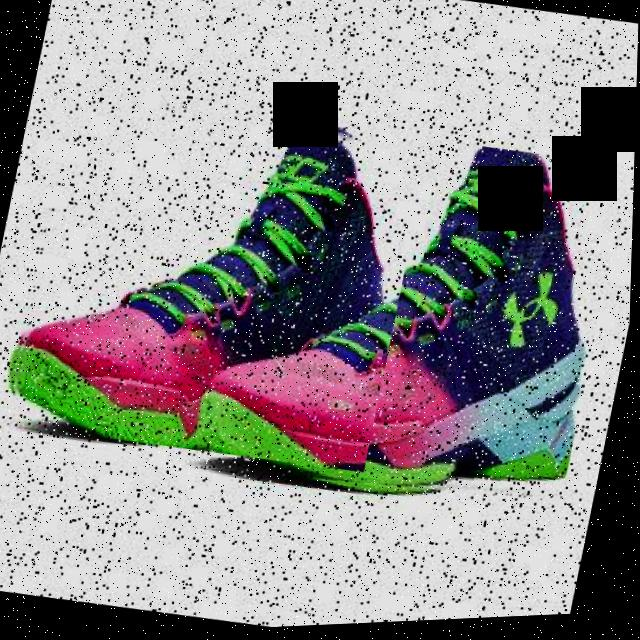shoe: (187, 105, 632, 534), (0, 74, 434, 488)
